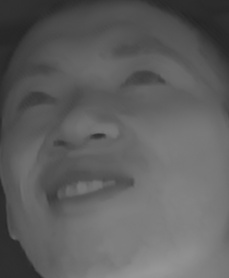eye: (120, 62, 166, 96), (15, 85, 57, 115)
mouth: (39, 158, 136, 219)
